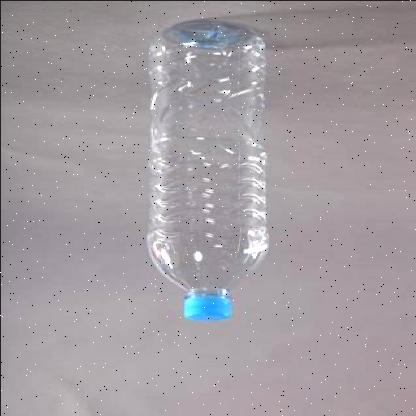Plastic Bottle: (146, 20, 268, 320)
